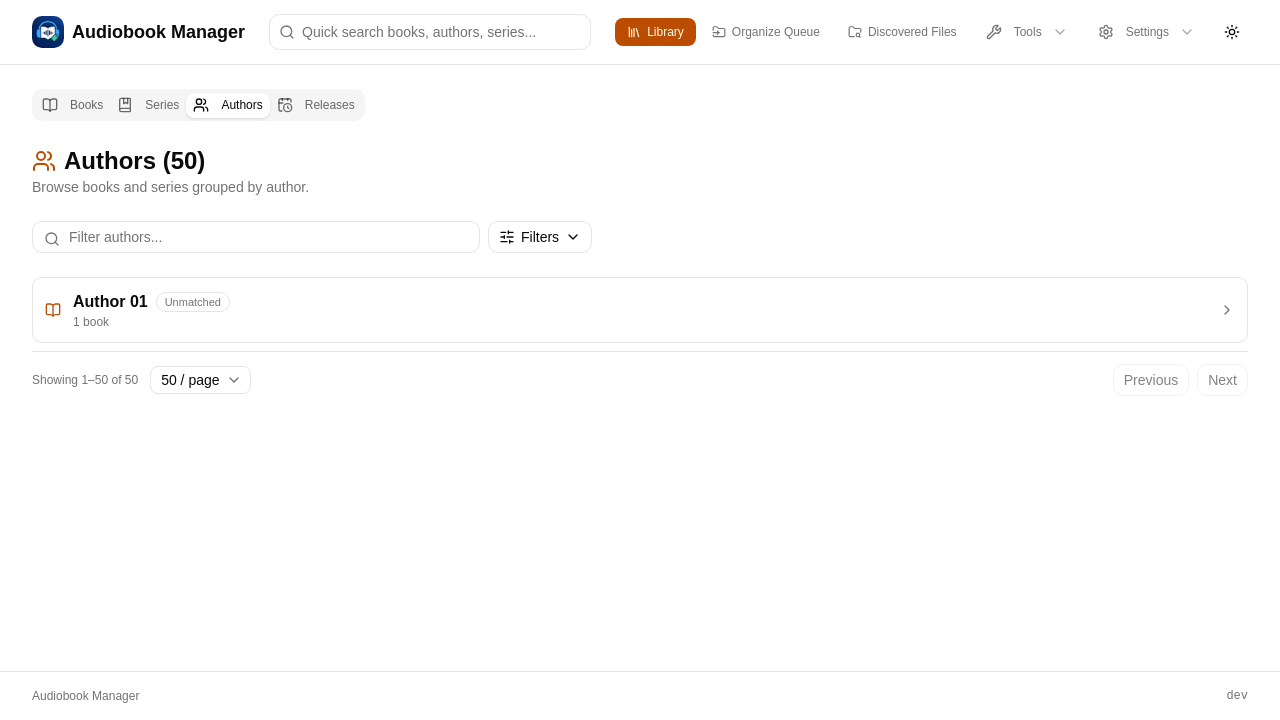
AuthorsList › queue status filter and presets › offers the served Queue status options and sends the chosen one to the server
Expected: the field with placeholder "Filter authors..." is shown, [32,221,480,253]
Click the button "Filters" at (540, 237), box [488,221,592,253]
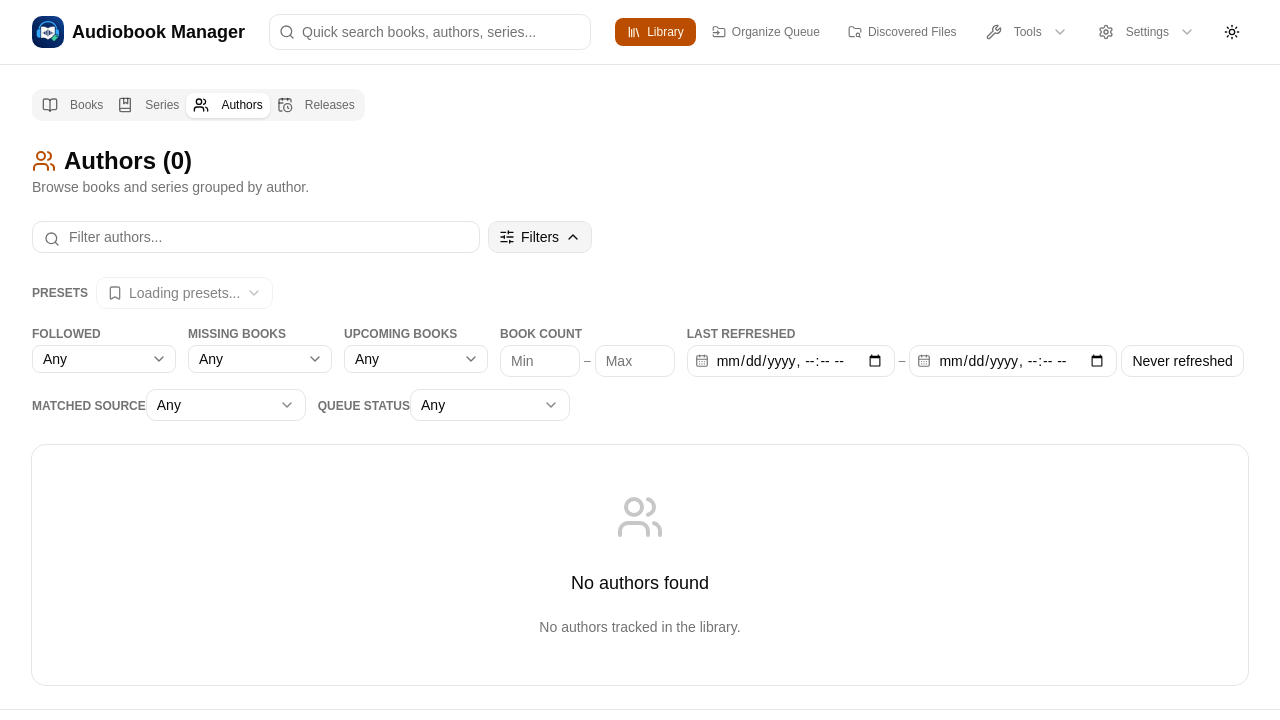
Click the button "Any" next to "Queue status" at (490, 405), box [410,389,570,421]
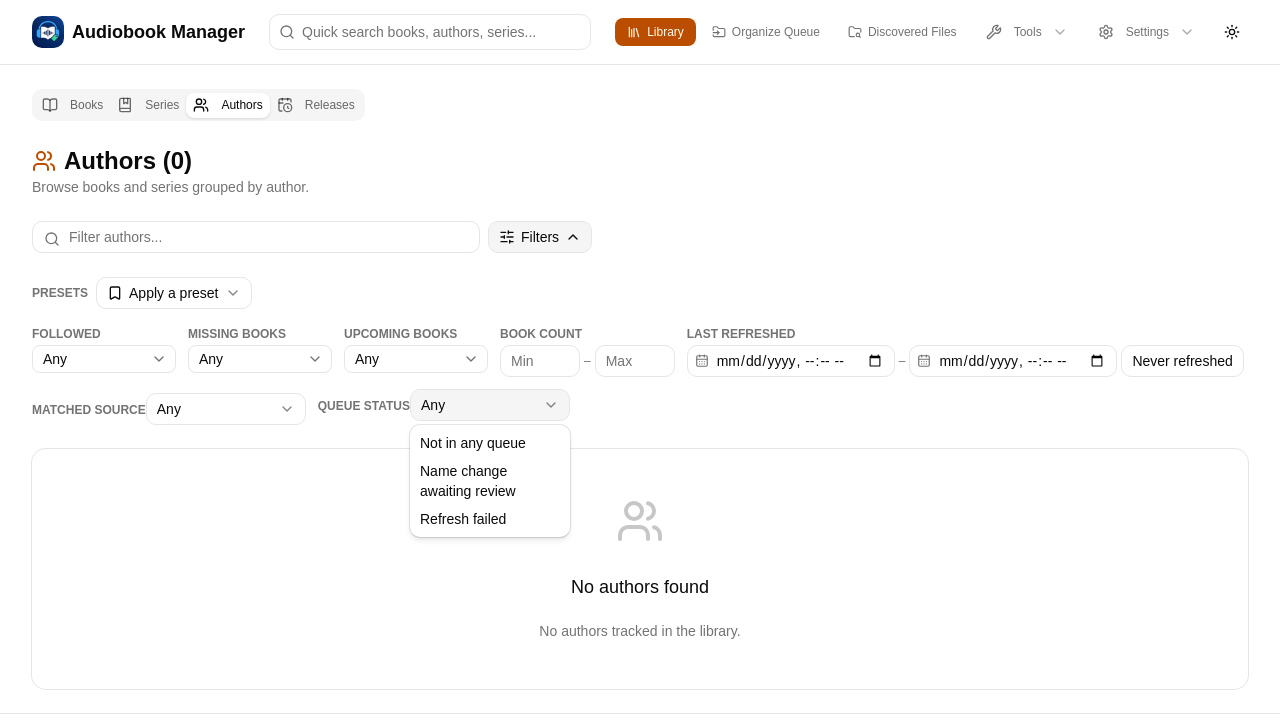
Click the menu item "Not in any queue" at (473, 443), box [420,435,526,451]
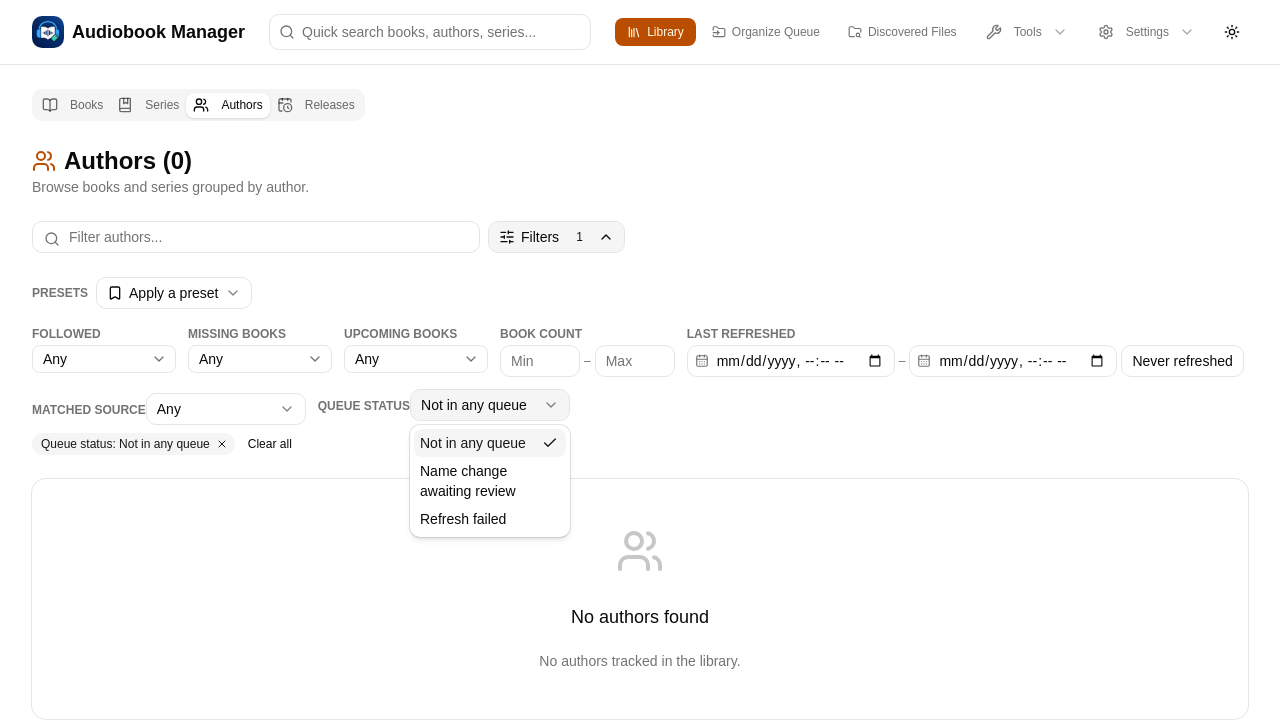
Result: the text "Queue status: Not in any queue" is shown at [32,433,235,455]
